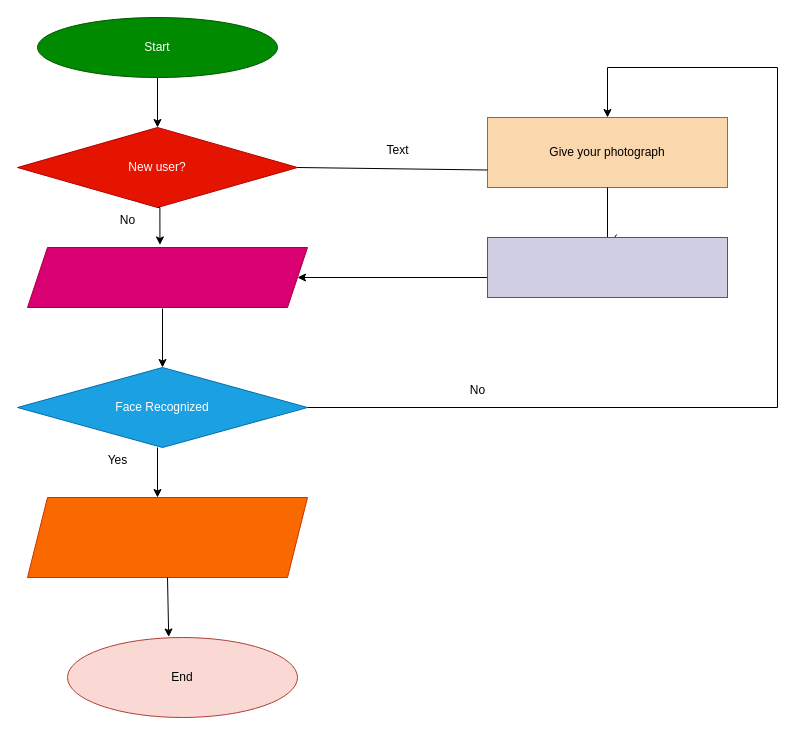
Some shapes in this 796 by 735 pixel diagram are drawn without their labels. Each missing label, with the centre of its shape:
Recognize the face: (x=167, y=277)
Store the face data in folder on your name: (x=607, y=267)
stored in car file with Registration Number &Date time of entry: (x=167, y=537)
